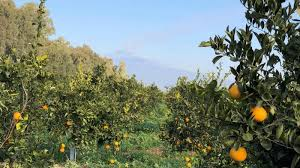orange: (249, 102, 268, 123), (229, 142, 248, 161), (226, 81, 243, 99)
